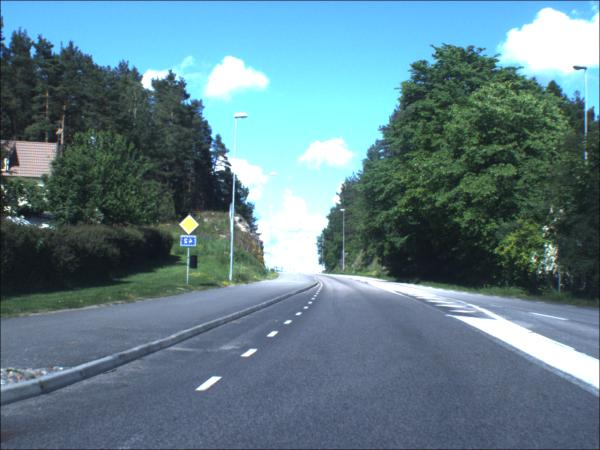PRIORITY_ROAD: (180, 214, 202, 238)
